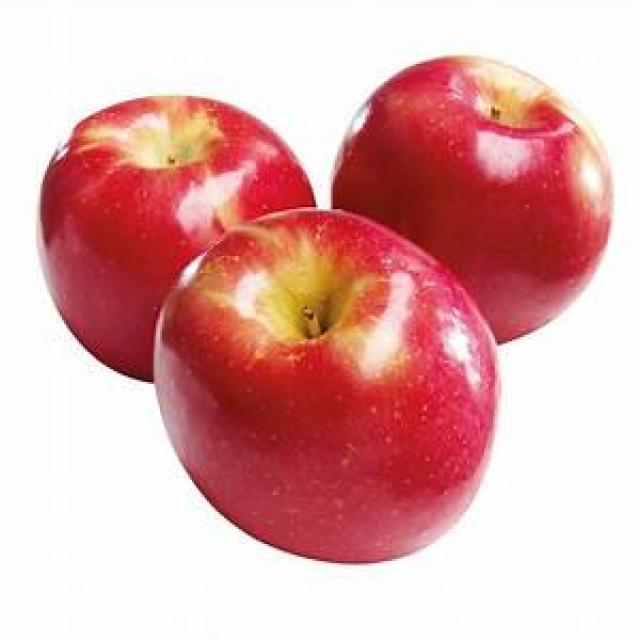apple: (153, 201, 503, 565)
